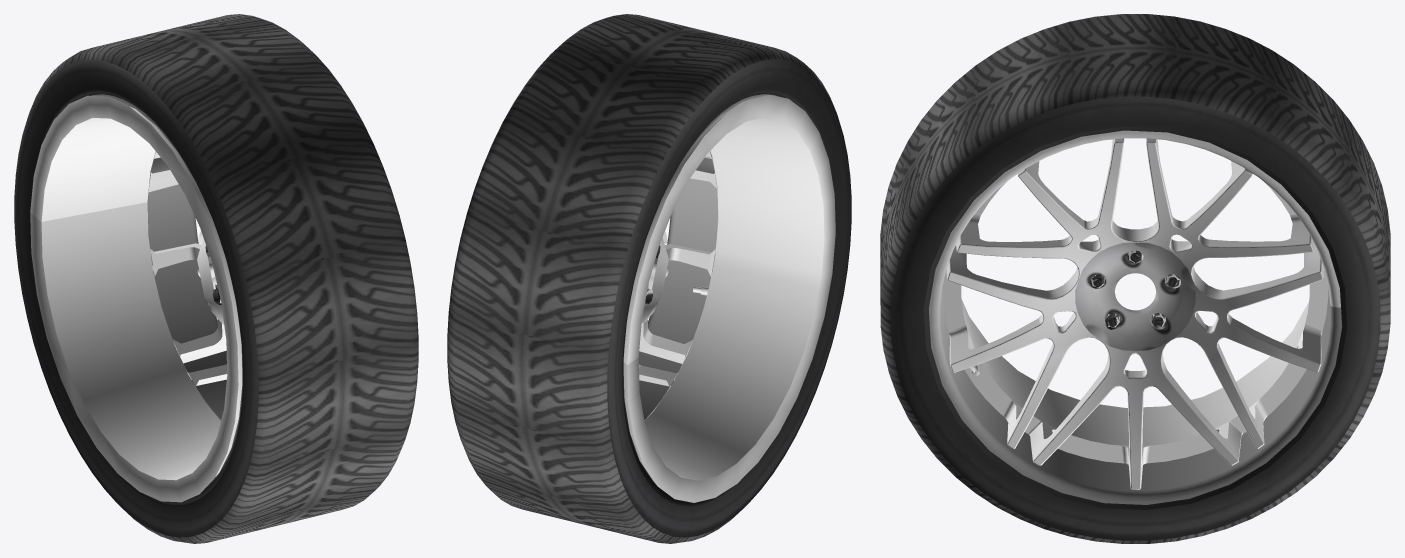
File: LlantaDerFront.obj
The picture shows the model from 3 angles, left to right: view 1: azimuth 30°, elevation 25°; view 2: azimuth 150°, elevation 25°; view 3: azimuth 270°, elevation 25°; orthographic projection.
Parts seen in each view (by area): view 1: wheel_rf; view 2: wheel_rf; view 3: wheel_rf.
Part boxes in pixels (bbox=[...]): wheel_rf: bbox=[14, 14, 418, 543]; wheel_rf: bbox=[447, 14, 851, 543]; wheel_rf: bbox=[880, 14, 1390, 543].
Bounding box in the file's own units: 2 × 5.39 × 5.39.
